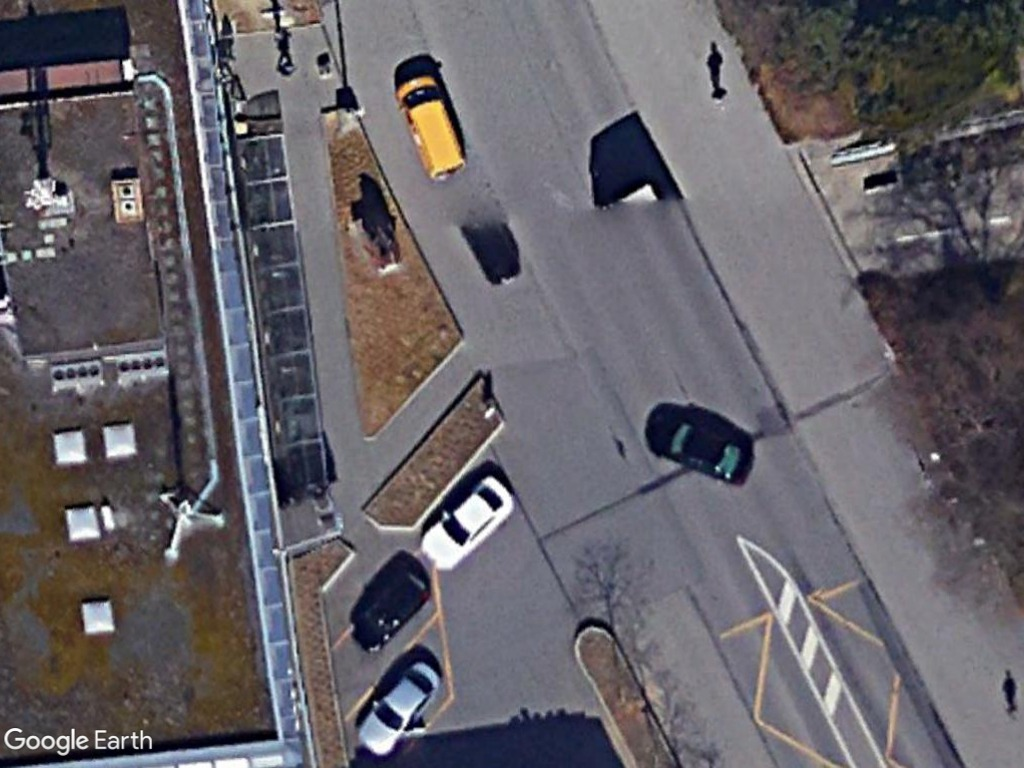car: (417, 472, 517, 576), (354, 656, 442, 761), (646, 414, 757, 487)
van: (395, 74, 472, 184)
